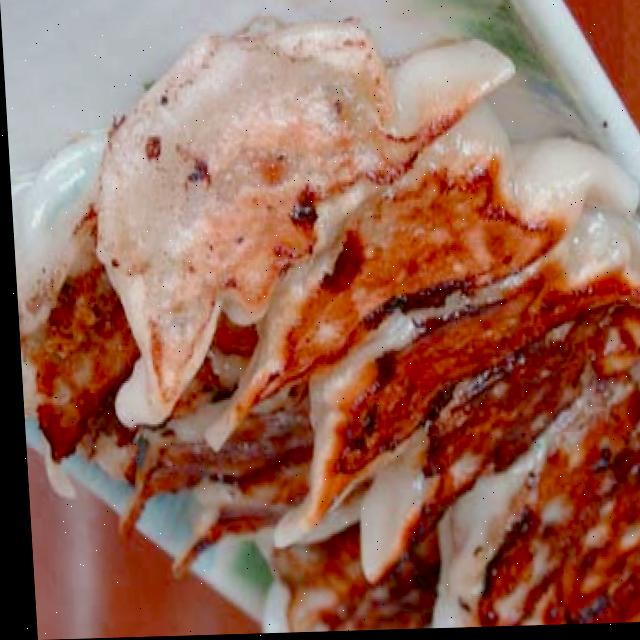带馅早点: (18, 3, 640, 640)
